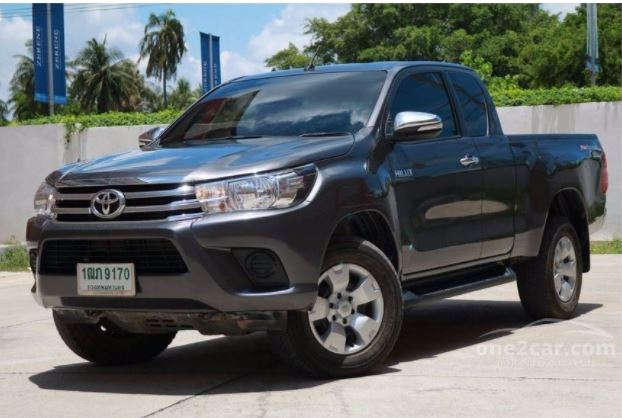pickup: (23, 58, 610, 381)
